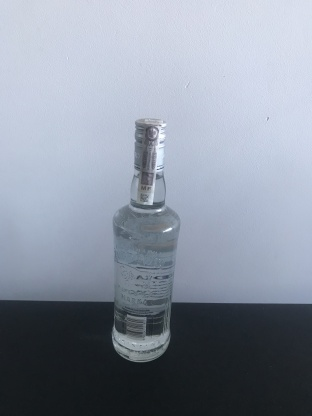nakretka: (131, 113, 169, 173)
